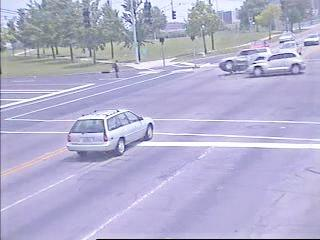Car: (67, 111, 154, 159), (247, 52, 305, 76), (219, 49, 271, 71), (281, 41, 302, 56), (279, 32, 295, 44), (251, 41, 269, 51), (305, 34, 320, 45)
Major Accident: (216, 48, 307, 79)
